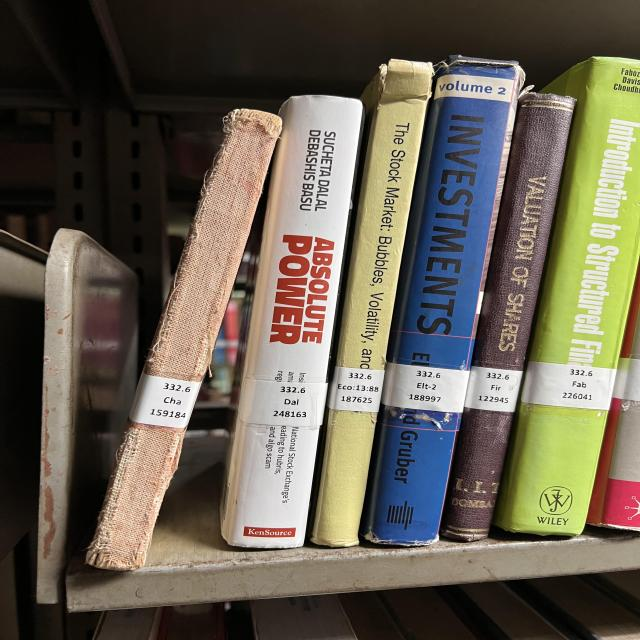Book: (87, 109, 282, 570), (362, 56, 522, 545), (497, 58, 640, 535), (222, 96, 362, 549), (442, 92, 575, 541), (312, 60, 433, 548), (593, 295, 640, 530)
Label: (522, 361, 615, 410), (382, 362, 470, 412), (238, 378, 328, 426), (130, 374, 202, 429), (465, 366, 523, 412), (328, 366, 385, 412), (612, 358, 640, 401)
